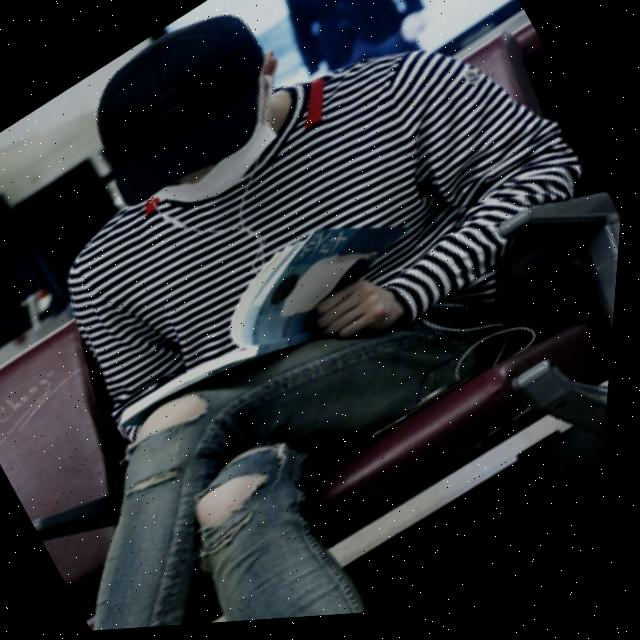Mask: (106, 49, 332, 246)
